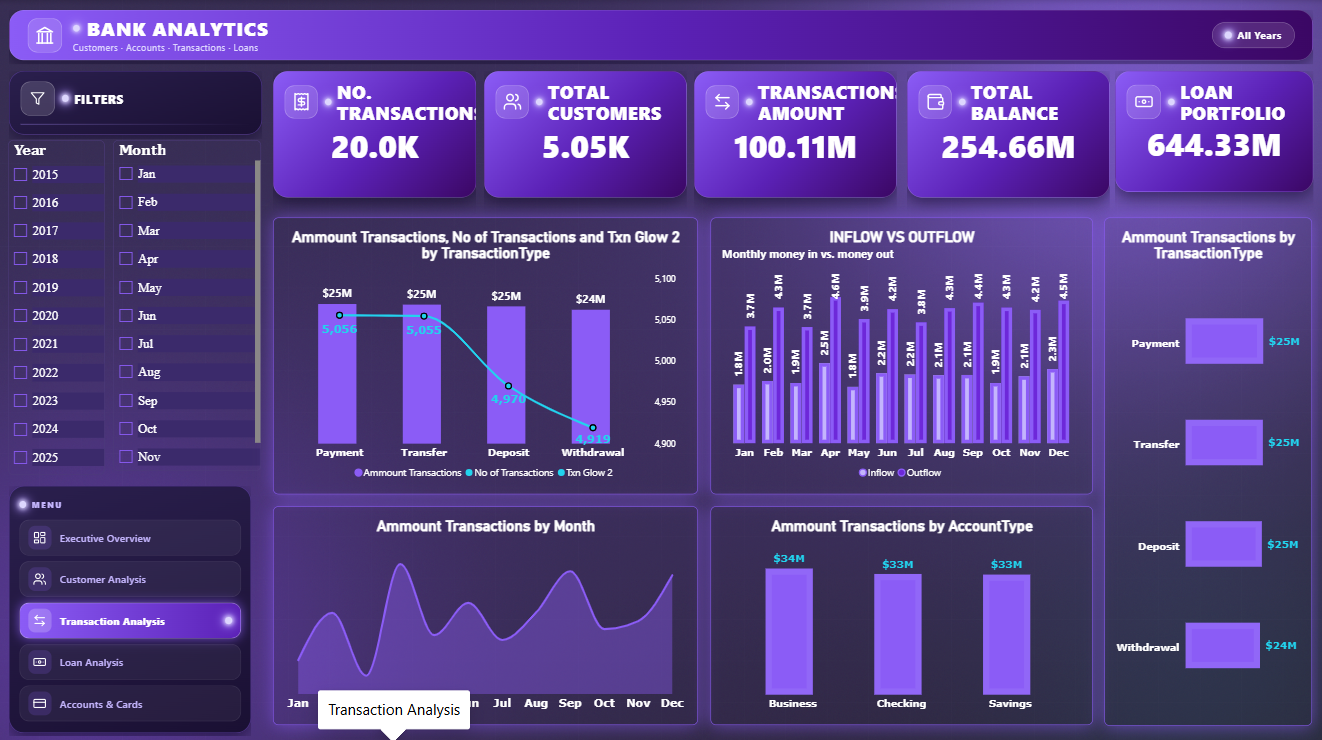

Layout of this report page (visuals, bound fields, positions):
{"tool":"powerbi","page":{"name":"Transaction Analysis","canvas":[1920,1080],"ordinal":2},"visuals":[{"type":"htmlContent443BE3AD55E043BF878BED274D3A6855","fields":{"content":["HTML.Header Bank Analytics"]},"box":[0,0,1920,108.2],"z":0},{"type":"htmlContent443BE3AD55E043BF878BED274D3A6855","fields":{"content":["HTML.Panel Filters"]},"box":[0,88.7,398.1,127.4],"z":1000},{"type":"htmlContent443BE3AD55E043BF878BED274D3A6855","fields":{"content":["HTML.Nav Menu 3"]},"box":[0,688.7,382.2,391.3],"z":2000},{"type":"slicer","fields":{"Values":["Calender.Year"]},"box":[15.2,202.8,140.3,485.1],"z":3000},{"type":"actionButton","box":[34.9,816.5,316.1,48.5],"z":4000},{"type":"actionButton","box":[34.9,754.4,316.1,48.5],"z":5000},{"type":"actionButton","box":[34.9,865,316.1,58.2],"z":6000},{"type":"actionButton","box":[31,936.7,320,48.5],"z":7000},{"type":"actionButton","box":[34.9,996.8,316.1,46.5],"z":8000},{"type":"slicer","fields":{"Values":["Calender.Month"]},"box":[166.7,203.2,214.6,479.4],"z":9000},{"type":"htmlContent443BE3AD55E043BF878BED274D3A6855","fields":{"content":["HTML.Card No of Transactions"]},"box":[382.2,88.7,325.3,259.3],"z":11000},{"type":"htmlContent443BE3AD55E043BF878BED274D3A6855","fields":{"content":["HTML.Card Customers"]},"box":[687,88.7,325,259.3],"z":12000},{"type":"htmlContent443BE3AD55E043BF878BED274D3A6855","fields":{"content":["HTML.Card Ammount Transactions"]},"box":[991.8,88.7,325,259.3],"z":13000},{"type":"htmlContent443BE3AD55E043BF878BED274D3A6855","fields":{"content":["HTML.Card Balance"]},"box":[1299,88.7,325,259.3],"z":14000},{"type":"htmlContent443BE3AD55E043BF878BED274D3A6855","fields":{"content":["HTML.Card Loan Ammount"]},"box":[1601,88.7,319,259],"z":15000},{"type":"clusteredBarChart","fields":{"Category":["Transactions.TransactionType"],"Y":["Calc Executive Overview.Ammount Transactions"]},"box":[1601.1,314.3,300.6,735.7],"z":16000},{"type":"lineClusteredColumnComboChart","fields":{"Category":["Transactions.TransactionType"],"Y":["Calc Executive Overview.Ammount Transactions"],"Y2":["Calc Executive Overview.No of Transactions","Calc Transactions Analysis.Txn Glow 2"]},"box":[398.6,314.3,614.9,400.9],"z":17000},{"type":"clusteredColumnChart","fields":{"Category":["Accounts.AccountType"],"Y":["Calc Executive Overview.Ammount Transactions"]},"box":[1031.7,733.4,553.5,316.6],"z":18000},{"type":"lineChart","fields":{"Category":["Calender.Month"],"Y":["Calc Executive Overview.Ammount Transactions"]},"box":[398.6,733.4,614.9,316.6],"z":19000},{"type":"clusteredColumnChart","title":"INFLOW VS OUTFLOW","fields":{"Category":["Calender.Month"],"Y":["Calc Transactions Analysis.Inflow","Calc Transactions Analysis.Outflow"]},"box":[1031.7,314.3,553.5,400.9],"z":20000}]}

Visuals, with their boxes in screenshot pixels (x1, y1, x2, y2), scaled from the page's 1920x1080 canvas onto the 1322x740 screenshot:
htmlContent443BE3AD55E043BF878BED274D3A6855 - HTML.Header Bank Analytics: locate(0, 0, 1321, 74)
htmlContent443BE3AD55E043BF878BED274D3A6855 - HTML.Panel Filters: locate(0, 61, 274, 148)
htmlContent443BE3AD55E043BF878BED274D3A6855 - HTML.Nav Menu 3: locate(0, 472, 263, 739)
slicer - Calender.Year: locate(10, 139, 107, 471)
actionButton: locate(24, 559, 242, 593)
actionButton: locate(24, 517, 242, 550)
actionButton: locate(24, 593, 242, 633)
actionButton: locate(21, 642, 242, 675)
actionButton: locate(24, 683, 242, 715)
slicer - Calender.Month: locate(115, 139, 263, 468)
htmlContent443BE3AD55E043BF878BED274D3A6855 - HTML.Card No of Transactions: locate(263, 61, 487, 238)
htmlContent443BE3AD55E043BF878BED274D3A6855 - HTML.Card Customers: locate(473, 61, 697, 238)
htmlContent443BE3AD55E043BF878BED274D3A6855 - HTML.Card Ammount Transactions: locate(683, 61, 907, 238)
htmlContent443BE3AD55E043BF878BED274D3A6855 - HTML.Card Balance: locate(894, 61, 1118, 238)
htmlContent443BE3AD55E043BF878BED274D3A6855 - HTML.Card Loan Ammount: locate(1102, 61, 1321, 238)
clusteredBarChart - Transactions.TransactionType x Calc Executive Overview.Ammount Transactions: locate(1102, 215, 1309, 719)
lineClusteredColumnComboChart - Transactions.TransactionType x Calc Executive Overview.Ammount Transactions: locate(274, 215, 698, 490)
clusteredColumnChart - Accounts.AccountType x Calc Executive Overview.Ammount Transactions: locate(710, 503, 1091, 719)
lineChart - Calender.Month x Calc Executive Overview.Ammount Transactions: locate(274, 503, 698, 719)
"INFLOW VS OUTFLOW" clusteredColumnChart: locate(710, 215, 1091, 490)
